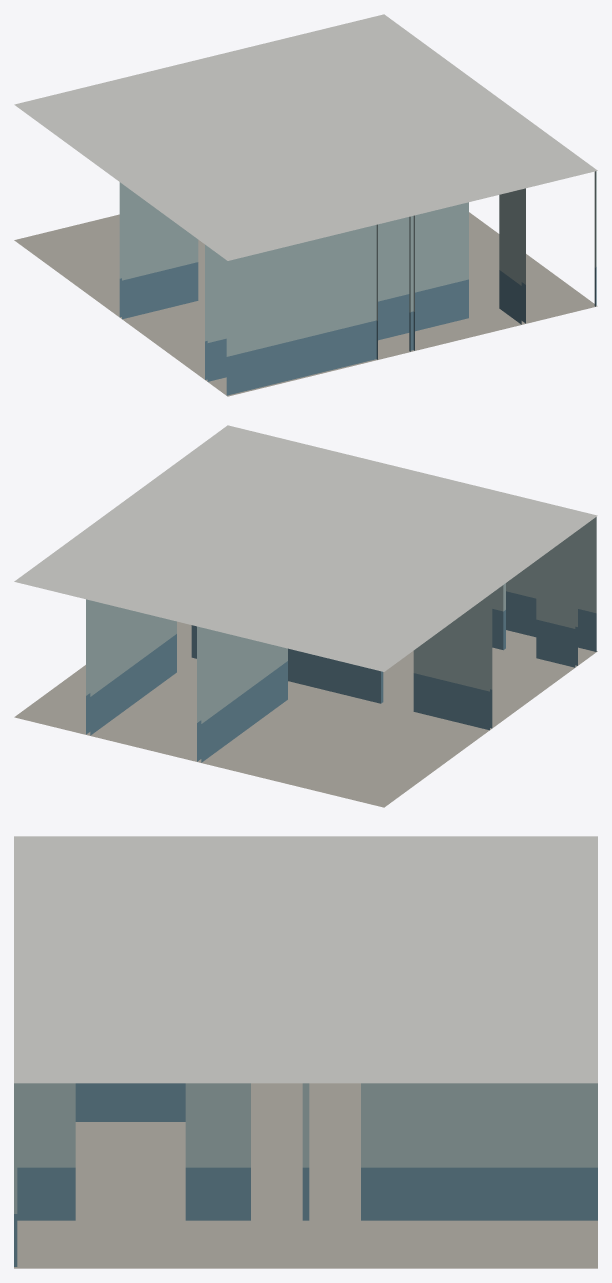
The model's file is chunk_2_2.glb.
The picture shows the model from 3 angles, top to bottom: view 1: azimuth 30°, elevation 25°; view 2: azimuth 150°, elevation 25°; view 3: azimuth 270°, elevation 25°; orthographic projection. The views are drawn at different scales.
Visible parts, largest first — view 1: chunk_2_2; view 2: chunk_2_2; view 3: chunk_2_2.
Boxes of the visible parts, x1,y1,x2,y2 form: chunk_2_2: [14, 14, 597, 396]; chunk_2_2: [14, 425, 597, 807]; chunk_2_2: [14, 836, 597, 1268].
Size of the model in its own units: 12 by 4.2 by 12.
